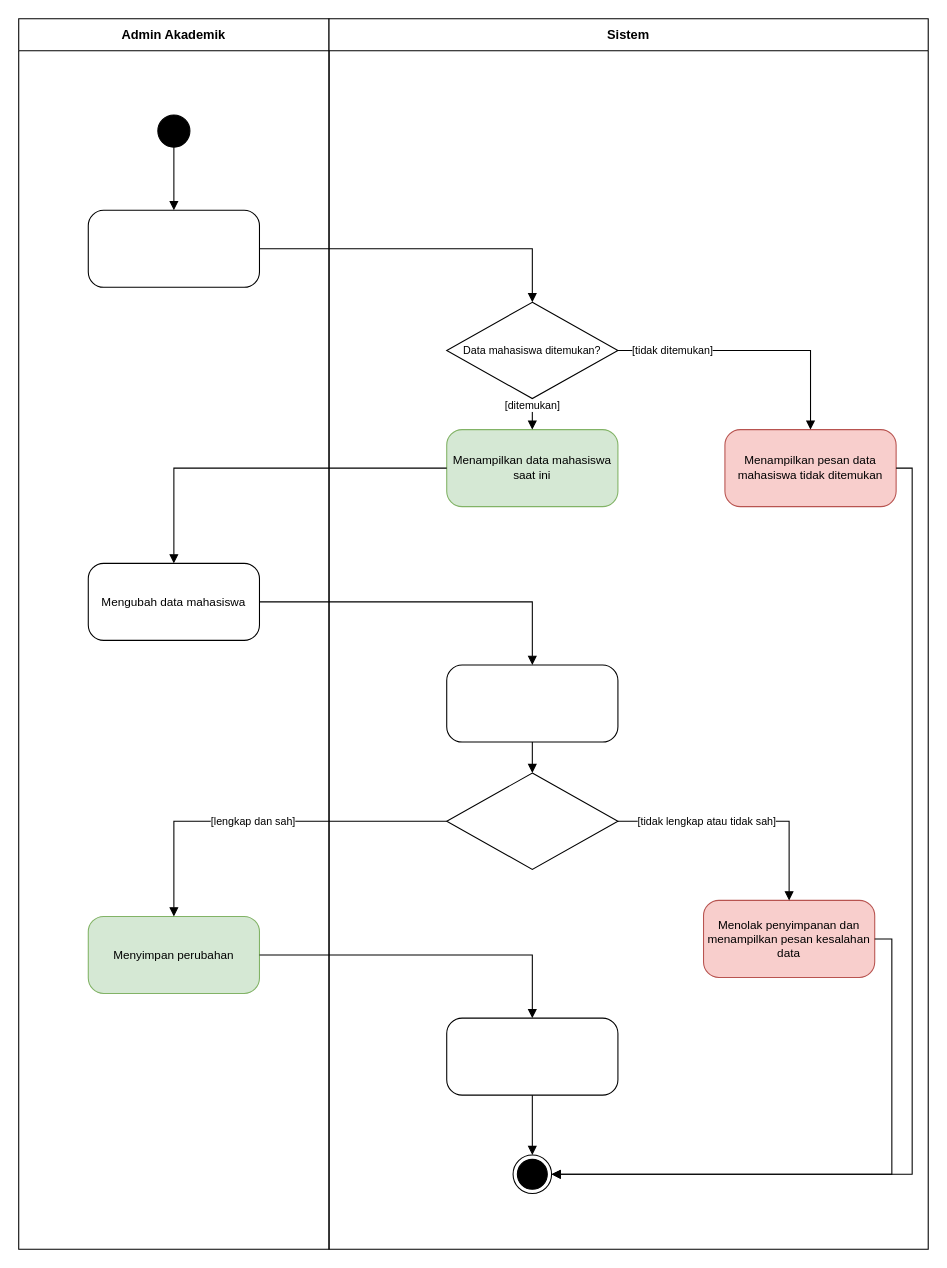
This 947x1268 diagram has some shape labels left out. The shapes that lost their labels are listed below. From the top down, each one's box as (x1, y1, x2, y2) in pixels, then its label:
(87, 209, 259, 287): Memilih data mahasiswa yang akan diubah
(446, 664, 618, 742): Memeriksa kelengkapan dan keabsahan perubahan data
(446, 772, 618, 869): Perubahan lengkap dan sah?
(446, 1017, 618, 1095): Menyimpan data yang diubah dan menampilkan konfirmasi
